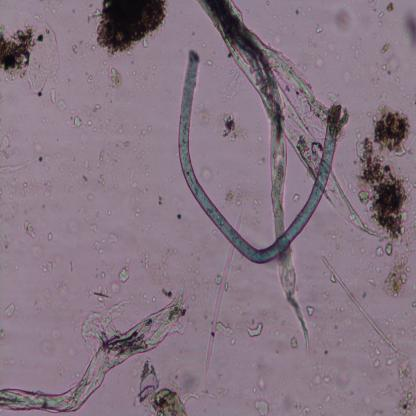Background material: (319, 255, 411, 367), (352, 107, 413, 238), (0, 23, 60, 96), (204, 247, 236, 375), (97, 0, 168, 54), (134, 358, 200, 415), (381, 249, 409, 300), (141, 244, 174, 282), (396, 358, 416, 415), (292, 304, 312, 356), (224, 180, 258, 210), (218, 112, 250, 141), (218, 66, 243, 101), (0, 155, 39, 176), (376, 43, 400, 76), (400, 5, 416, 50), (308, 361, 330, 390), (95, 152, 110, 189), (213, 387, 249, 402), (86, 284, 112, 304), (80, 31, 98, 59), (94, 234, 120, 253), (330, 366, 350, 390), (116, 123, 132, 152), (106, 67, 124, 92), (332, 11, 353, 32), (50, 88, 67, 112), (142, 75, 158, 99), (189, 264, 200, 298), (200, 104, 214, 130), (245, 322, 265, 340), (52, 278, 70, 298), (39, 0, 57, 20), (96, 117, 113, 138), (253, 370, 267, 395), (370, 339, 382, 368), (85, 2, 101, 23), (252, 397, 270, 415), (97, 54, 112, 75), (280, 392, 295, 412), (339, 171, 353, 192), (198, 164, 214, 182), (2, 301, 17, 320), (5, 174, 20, 193), (295, 397, 310, 416), (66, 214, 79, 235), (116, 265, 132, 282), (140, 290, 158, 305), (42, 179, 52, 206), (23, 219, 37, 238), (292, 5, 312, 18), (42, 284, 52, 310), (374, 384, 394, 397), (383, 310, 399, 326), (162, 171, 177, 188), (326, 316, 341, 333), (322, 38, 336, 56), (131, 199, 143, 220), (376, 243, 394, 257), (350, 42, 363, 61), (232, 304, 247, 320), (395, 76, 407, 96), (303, 33, 317, 50), (309, 53, 323, 70), (338, 390, 355, 404), (41, 337, 54, 355), (108, 151, 121, 169), (74, 172, 89, 187), (94, 264, 107, 281), (330, 228, 340, 250), (39, 259, 55, 272), (200, 388, 217, 400), (0, 134, 10, 154), (368, 261, 382, 275), (138, 127, 150, 143), (186, 315, 198, 330), (91, 79, 101, 97), (55, 359, 64, 379), (70, 113, 81, 129), (60, 164, 74, 176), (33, 144, 45, 158), (80, 207, 91, 222), (332, 304, 348, 314), (5, 355, 17, 368), (361, 368, 372, 382), (256, 152, 267, 166), (159, 288, 173, 299), (313, 20, 322, 36), (3, 235, 12, 251), (110, 173, 119, 189), (62, 184, 75, 195), (374, 92, 387, 103), (140, 183, 150, 197), (369, 74, 379, 88), (306, 303, 315, 318), (366, 275, 377, 287), (289, 191, 301, 202), (129, 166, 137, 182), (52, 329, 62, 341), (156, 195, 166, 207), (90, 104, 100, 116), (30, 175, 38, 190), (272, 34, 282, 46), (344, 69, 352, 83), (133, 70, 141, 84), (110, 282, 120, 293), (174, 211, 184, 222), (235, 264, 245, 275), (30, 12, 42, 21), (323, 392, 332, 404), (81, 158, 90, 170), (148, 218, 158, 228), (124, 256, 135, 265), (369, 0, 378, 11), (387, 3, 396, 14), (55, 149, 64, 160), (87, 72, 94, 86), (122, 184, 130, 196), (22, 205, 32, 214), (136, 151, 146, 160), (67, 259, 73, 274), (199, 39, 208, 49), (90, 224, 100, 233), (371, 408, 382, 416), (0, 327, 6, 341), (291, 337, 297, 351), (44, 162, 52, 172), (90, 210, 98, 220), (144, 164, 150, 177), (330, 272, 336, 285), (72, 43, 79, 54), (359, 244, 367, 253), (46, 231, 52, 243), (275, 326, 281, 338), (337, 338, 344, 348), (388, 358, 395, 368), (0, 92, 6, 103), (84, 106, 90, 117), (7, 192, 15, 200), (206, 59, 214, 67), (20, 180, 28, 188), (316, 403, 324, 411), (217, 370, 224, 379), (274, 386, 280, 396), (309, 282, 316, 290), (11, 201, 18, 209), (88, 192, 95, 200), (370, 33, 378, 40), (191, 296, 198, 304), (254, 361, 261, 369), (349, 303, 354, 314), (152, 63, 157, 73), (68, 25, 75, 32), (286, 323, 293, 330), (20, 358, 26, 366), (212, 228, 218, 236), (335, 54, 341, 62), (71, 7, 77, 15), (12, 262, 18, 270), (125, 69, 130, 78), (245, 7, 250, 16), (323, 292, 328, 301), (41, 115, 46, 124), (280, 318, 286, 325), (358, 13, 364, 20), (264, 0, 270, 7), (377, 19, 383, 26), (132, 181, 138, 188), (379, 10, 384, 18), (328, 251, 333, 259), (71, 155, 77, 161), (148, 123, 152, 132), (4, 216, 10, 222), (39, 158, 45, 164), (36, 308, 42, 314), (324, 350, 329, 357), (344, 131, 349, 138), (371, 252, 376, 259), (0, 188, 4, 196), (370, 15, 374, 23), (66, 76, 70, 84), (361, 292, 366, 298), (88, 121, 92, 128), (192, 31, 195, 38), (107, 209, 110, 216), (412, 301, 416, 306), (185, 351, 188, 355), (277, 350, 280, 354), (274, 14, 276, 19), (132, 60, 134, 64), (0, 230, 2, 233)
Cellulose filter fibre: (200, 0, 369, 304), (0, 286, 183, 414)
Microfibre: (178, 47, 341, 266)
